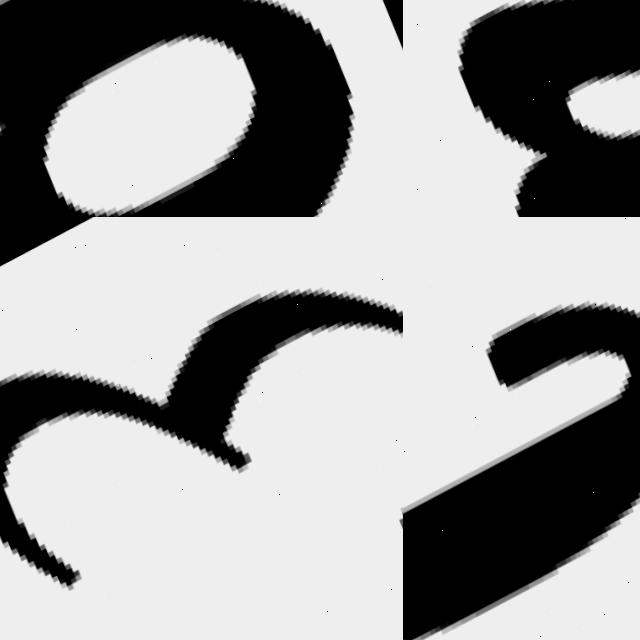3: (0, 217, 403, 640)
C: (403, 308, 640, 640)
D: (0, 0, 403, 217)
M: (404, 0, 640, 217)
